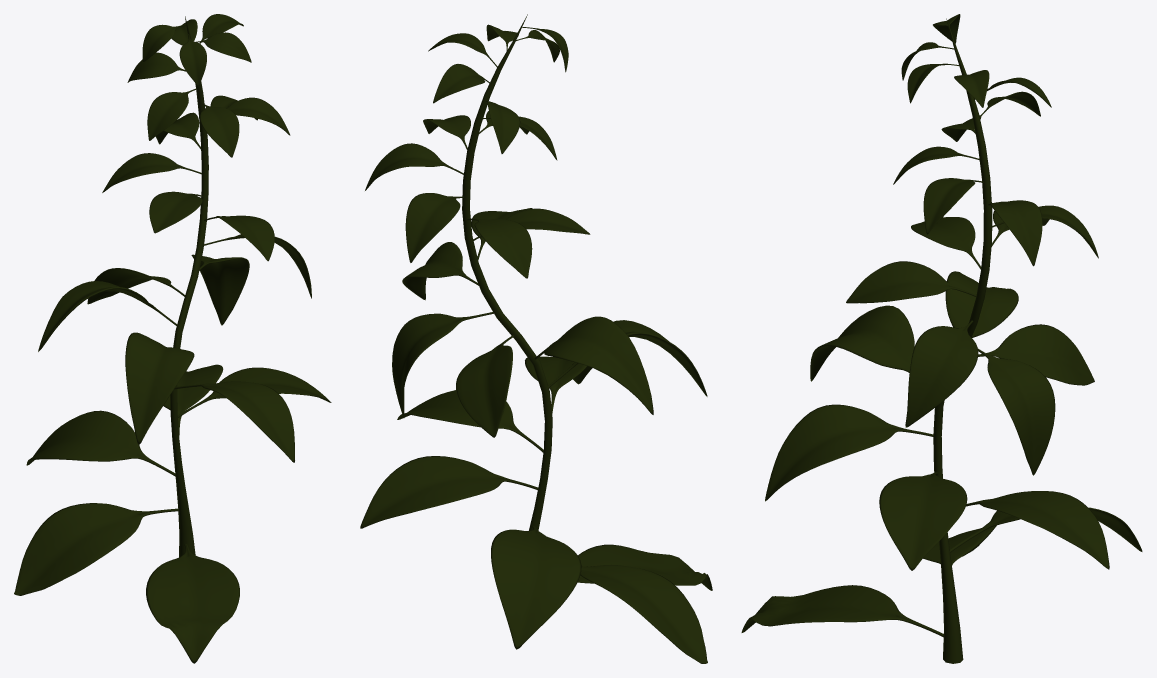
File: plantemonotige1.obj
The picture shows the model from 3 angles, left to right: view 1: azimuth 30°, elevation 25°; view 2: azimuth 150°, elevation 25°; view 3: azimuth 270°, elevation 25°; orthographic projection. The views are drawn at different scales.
Parts seen in each view (by area): view 1: feuille, tige; view 2: feuille, tige; view 3: feuille, tige.
Part boxes in pixels (x1=…): feuille: x1=14, y1=14, x2=331, y2=663; tige: x1=170, y1=16, x2=208, y2=557; feuille: x1=360, y1=24, x2=712, y2=663; tige: x1=462, y1=14, x2=552, y2=530; feuille: x1=741, y1=14, x2=1142, y2=637; tige: x1=933, y1=18, x2=992, y2=663.
Size of the model in its own units: 7.06 by 12.77 by 7.03.
